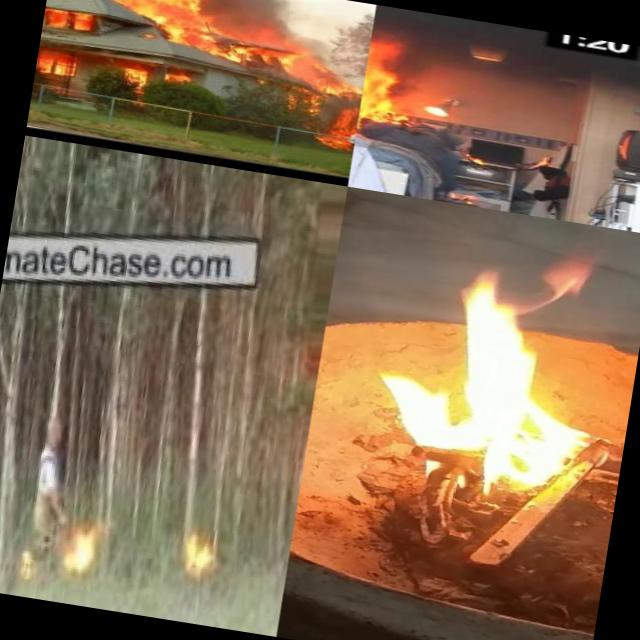fire: (368, 235, 640, 511), (279, 58, 366, 153), (356, 30, 422, 143), (42, 0, 149, 44), (54, 516, 110, 590), (168, 518, 223, 592), (204, 29, 294, 72), (140, 0, 215, 47), (116, 62, 198, 100), (35, 51, 79, 82)
smoke: (240, 0, 303, 42), (294, 33, 340, 65), (207, 0, 249, 33)
